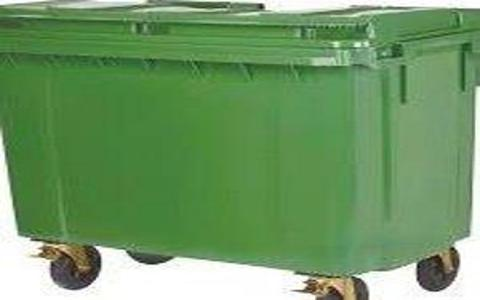Proper garbage: (1, 1, 476, 299)
